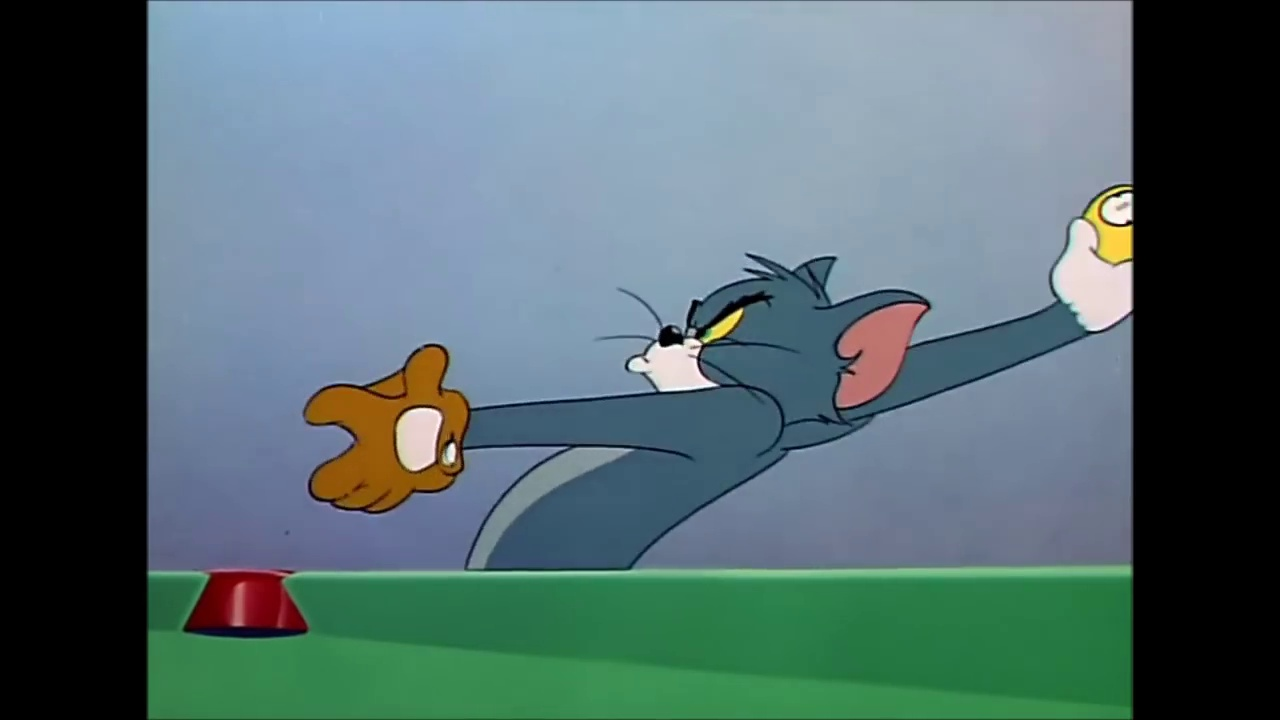angry: (625, 290, 786, 395)
